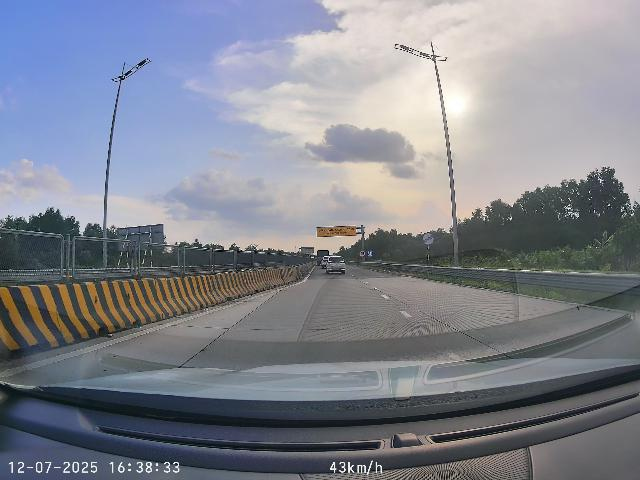127-toc-do-toi-da-90: (358, 250, 366, 257)
135-het-tat-ca-cac-lenh-cam: (422, 233, 435, 245)
306-toc-do-toi-thieu-60: (366, 250, 374, 257)
